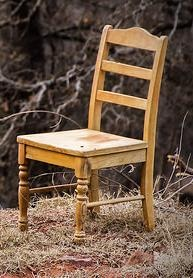obstacle: (17, 25, 167, 241)
